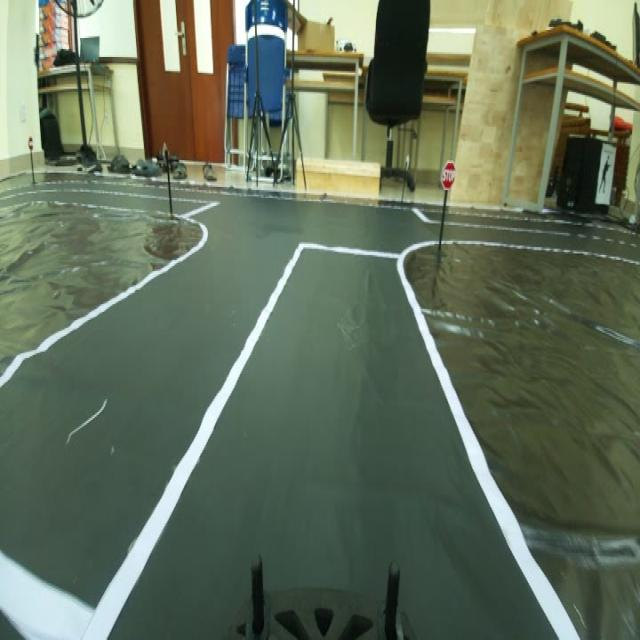stop: (438, 152, 463, 200)
